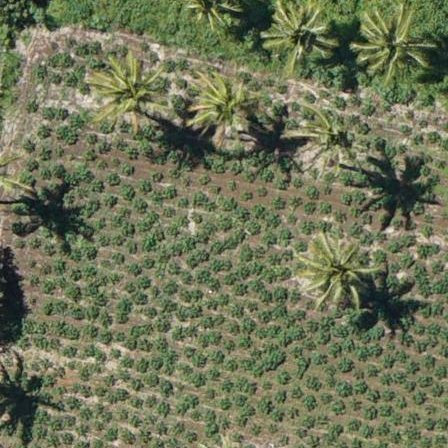palm_tree: (89, 48, 163, 127), (361, 4, 433, 79), (299, 233, 368, 307), (262, 1, 334, 66), (192, 68, 253, 133), (295, 102, 358, 163)
